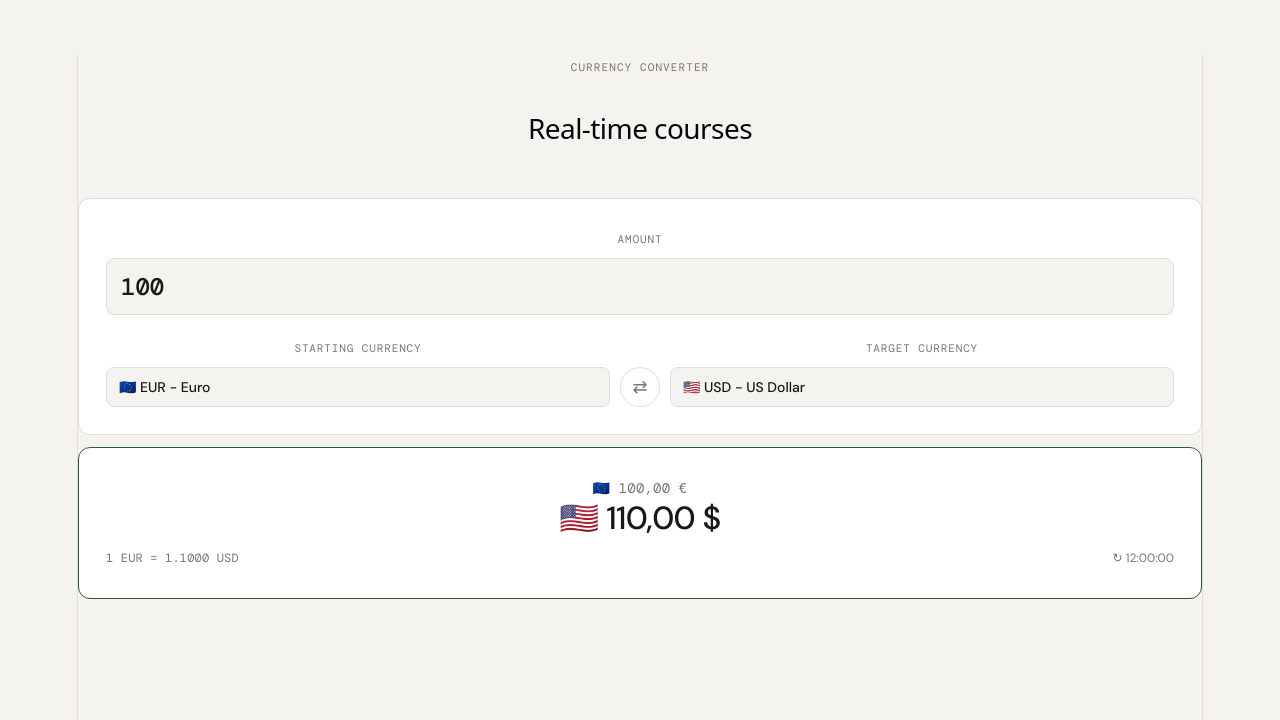
Scenario: App amount input › shows the error and no conversion for a negative amount (regression: the result was still shown)
Replace the text in the field labelled "Amount" with "-5": (640, 286) [106,258,1174,315]
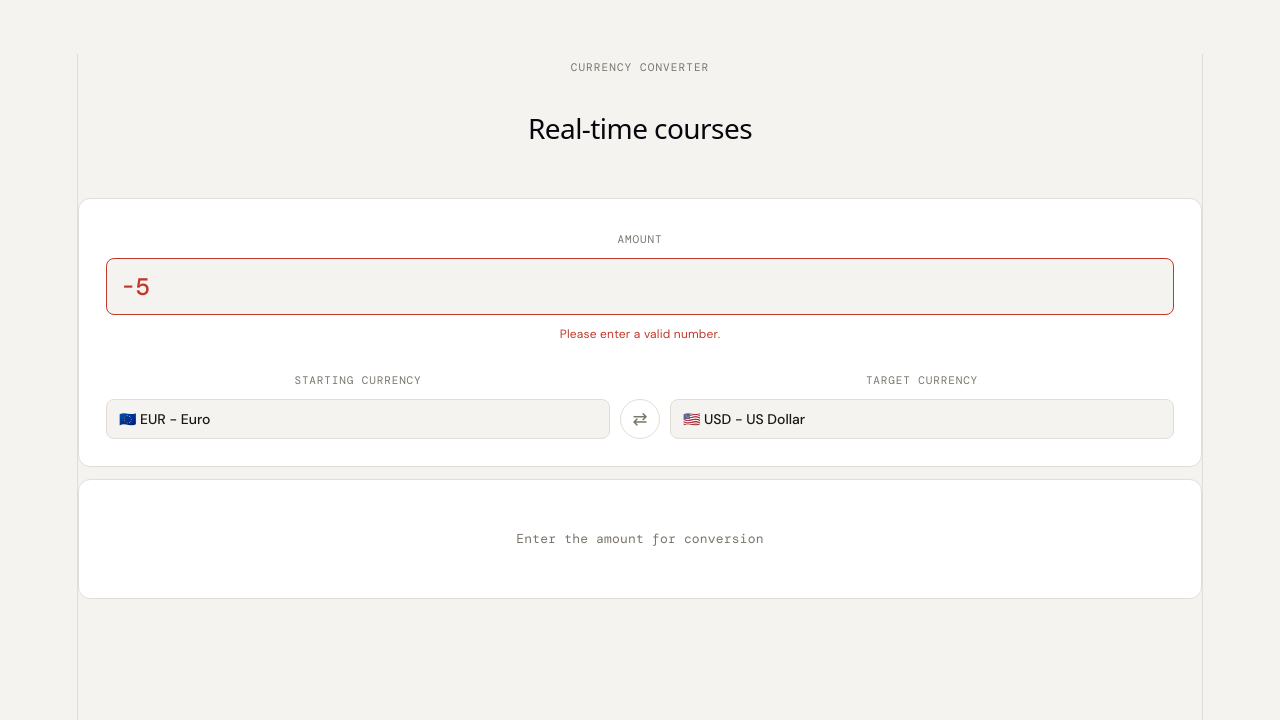
Check: the text "Please enter a valid number." is shown, box [560,326,720,342]
Check: the text "Enter the amount for conversion" is shown, box [516,530,764,547]
